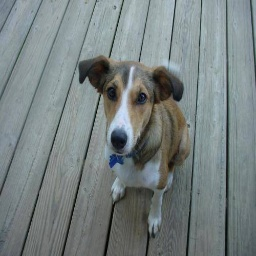dog: (74, 51, 202, 236)
